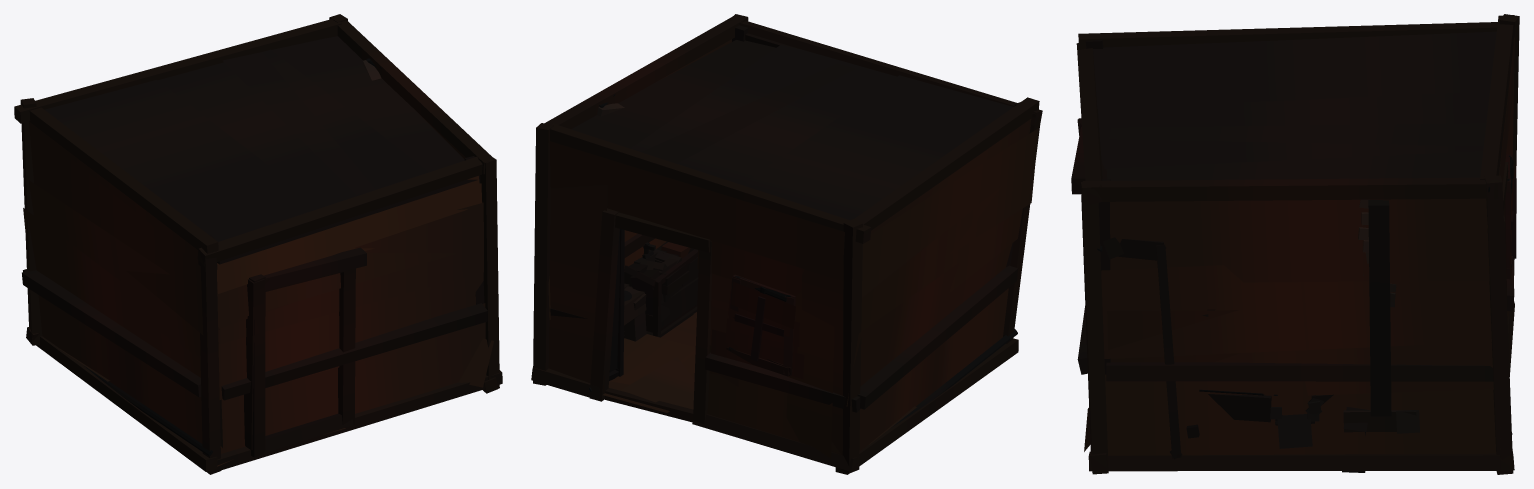
File: Room_01_quill.fbx
3 renders of one model, left to right at view 1: azimuth 30°, elevation 25°; view 2: azimuth 150°, elevation 25°; view 3: azimuth 270°, elevation 25°, orthographic. The views are drawn at different scales.
Parts seen in each view (by area): view 1: NewLayer4; view 2: NewLayer4; view 3: NewLayer4.
Boxes of the visible parts, bbox=[...] form: NewLayer4: bbox=[14, 14, 502, 474]; NewLayer4: bbox=[531, 14, 1042, 474]; NewLayer4: bbox=[1071, 14, 1519, 474].
Bounding box in the file's own units: 0.6033 × 0.4786 × 0.5987.
